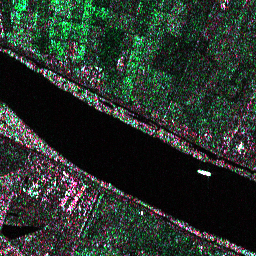ship: (195, 166, 214, 179)
